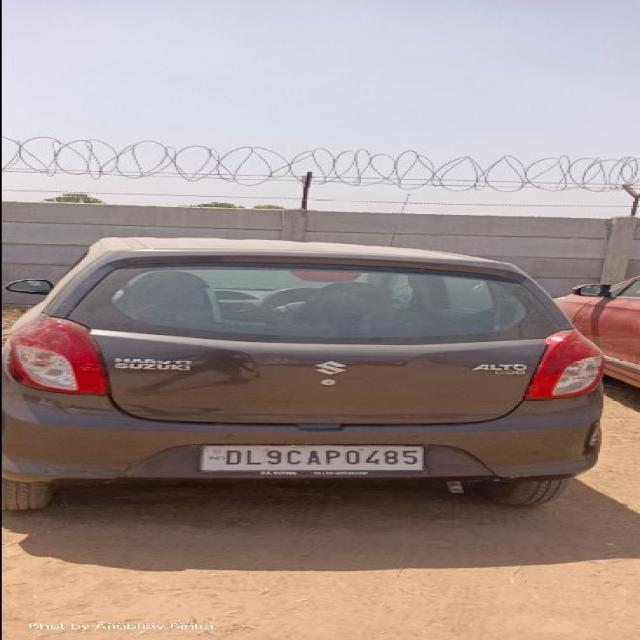license_plate: (197, 444, 426, 472)
